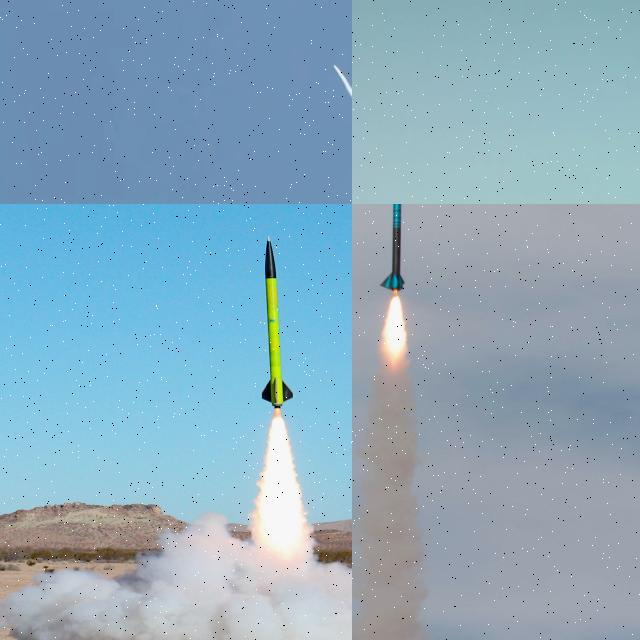Rocket: (261, 236, 295, 409), (378, 204, 406, 291), (332, 60, 335, 66)
